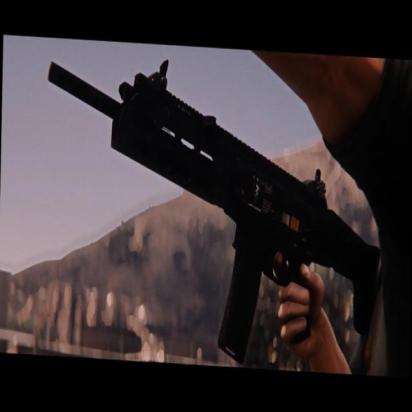Gun: (47, 57, 384, 371)
